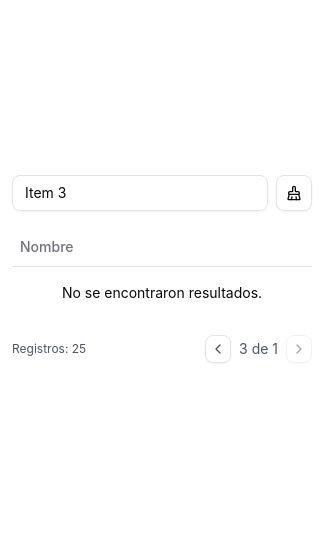
Test: Tabla con estado de lista controlado › muestra botón limpiar y reinicia búsqueda y página
Click the button titled "Limpiar búsqueda y filtros".
click(294, 193)  # box [276,175,312,211]
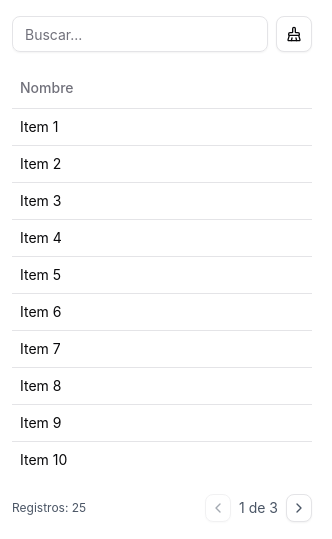
Expected: the field with placeholder "Buscar..." is empty, [12,16,268,52]
